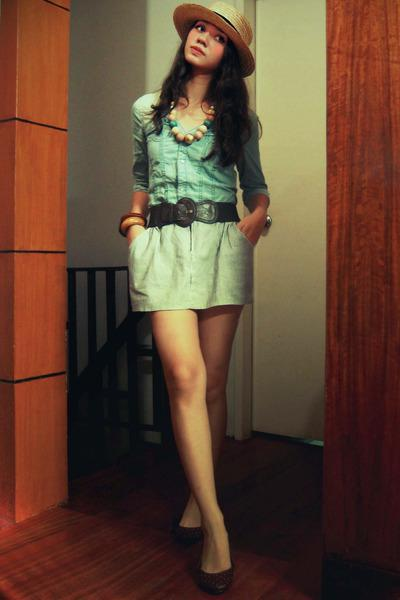dress: (127, 87, 269, 314)
